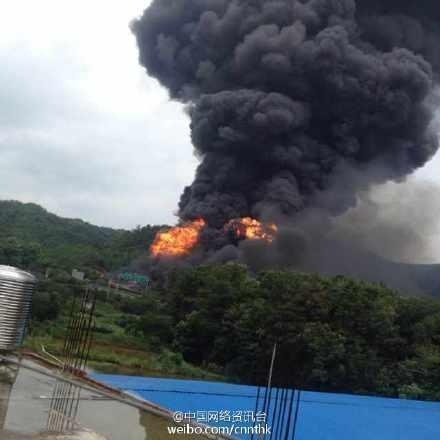fire: (150, 218, 204, 254), (233, 215, 277, 241)
